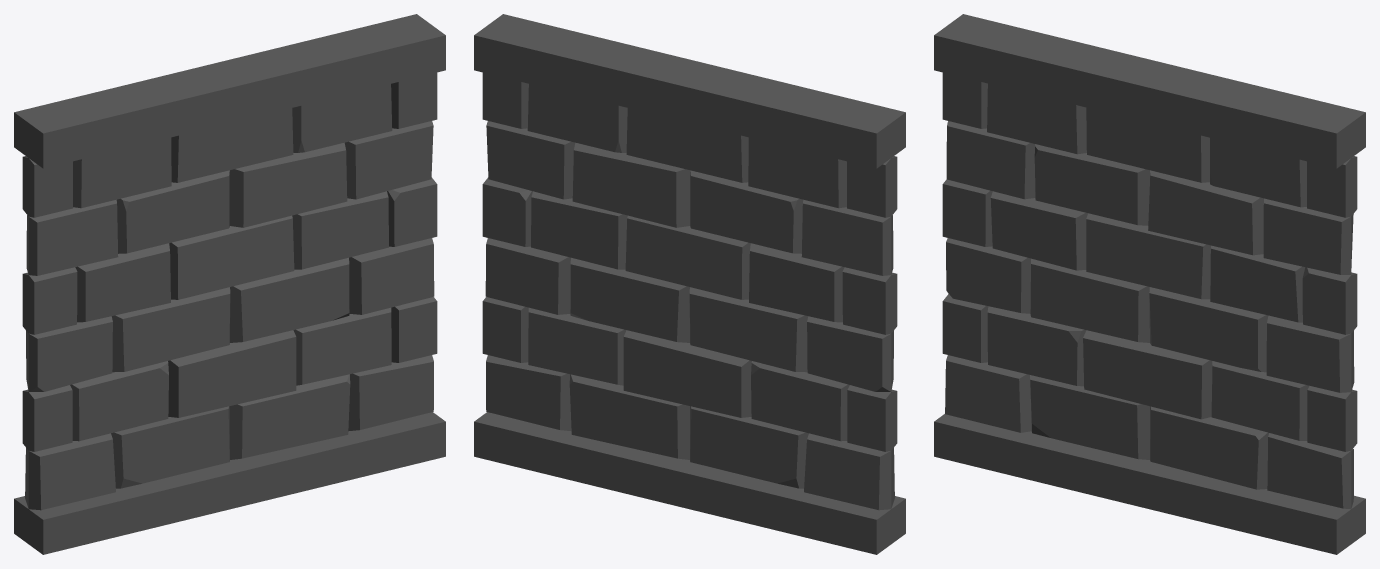
The model's file is Wall_4x4_3.fbx.
3 views of the same model, side by side, from view 1: azimuth 30°, elevation 25°; view 2: azimuth 150°, elevation 25°; view 3: azimuth 330°, elevation 25° (orthographic).
Parts seen in each view (by area): view 1: Wall 1.003; view 2: Wall 1.003; view 3: Wall 1.003.
Boxes of the visible parts, x1=… form: Wall 1.003: x1=14, y1=14, x2=445, y2=554; Wall 1.003: x1=474, y1=14, x2=905, y2=554; Wall 1.003: x1=934, y1=14, x2=1365, y2=554.
Size of the model in its own units: 400 by 400 by 50.
